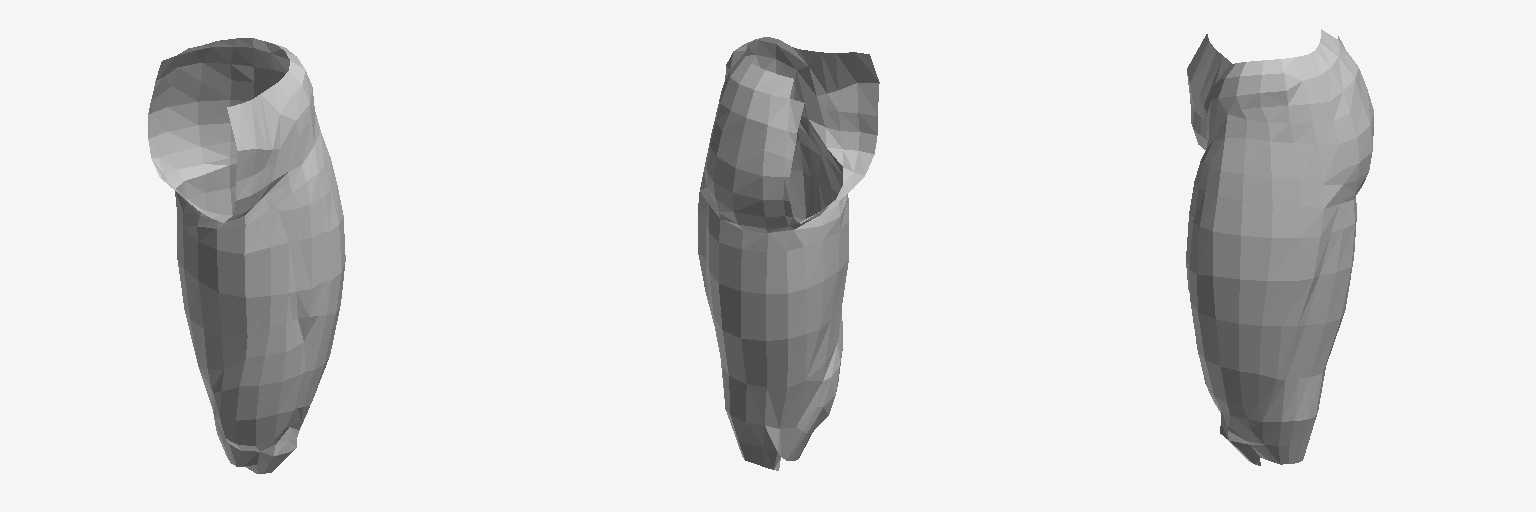
The model's file is TopLegLeft.obj.
3 renders of one model, left to right at view 1: azimuth 30°, elevation 25°; view 2: azimuth 150°, elevation 25°; view 3: azimuth 270°, elevation 25°, orthographic.
Visible parts, largest first — view 1: mesh17; view 2: mesh17; view 3: mesh17.
Part boxes in pixels (x1,y1,x2,y2): mesh17: (148, 38, 345, 473); mesh17: (698, 37, 879, 470); mesh17: (1186, 29, 1373, 465).
Size of the model in its own units: 7.8 by 23.38 by 9.65.